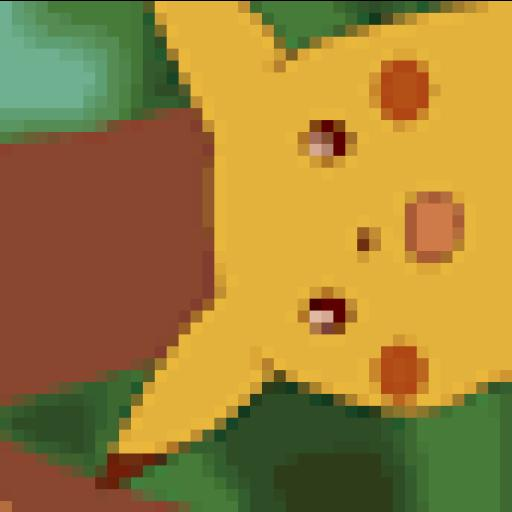Pikachu: (96, 0, 512, 488)
